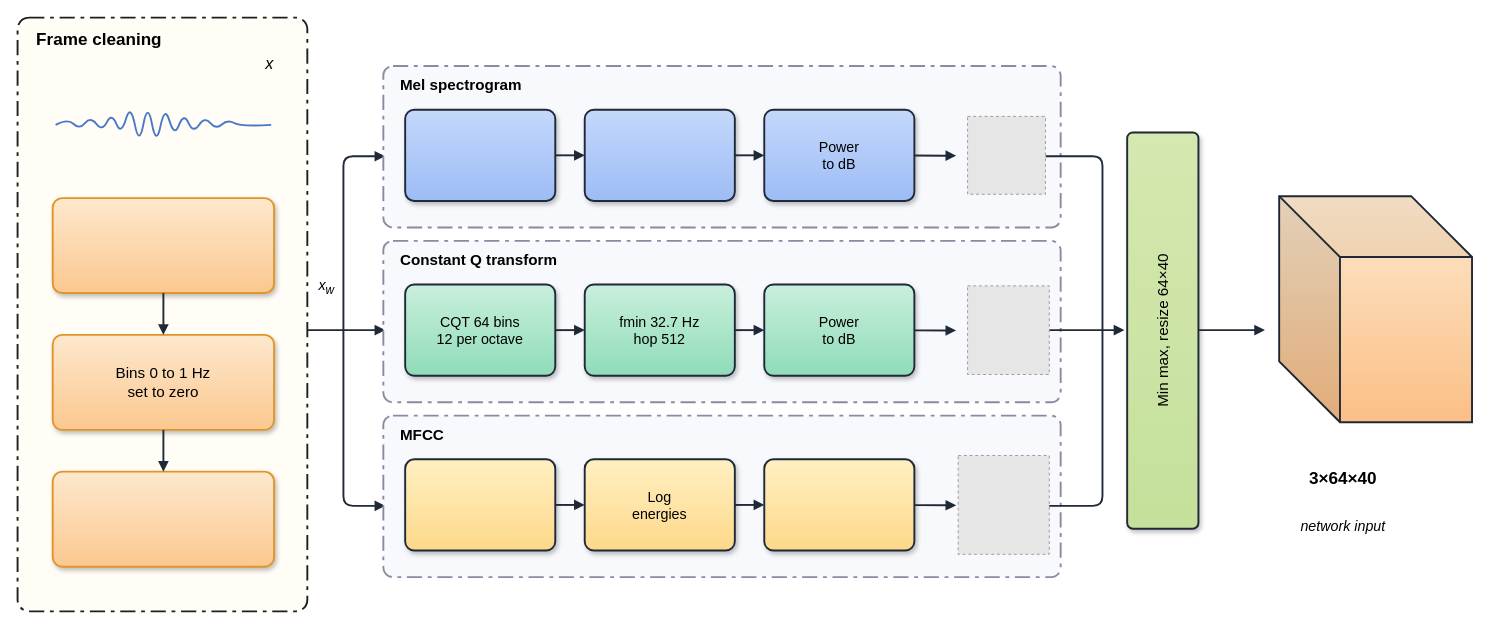
This 1489x628 diagram has some shape labels left out. Grey dashed boxes stand in for pictures. The centre of each missing label's shape, as x and y in pixels:
"30 mel bands FFT 1024" belongs at point 480,506.
"64 mel filters 0 to 2000 Hz" belongs at point 660,156.
"DCT, 30 coefficients" belongs at point 840,506.
"Divide by peak value" belongs at point 164,520.
"Mono, 4 kHz 5 s frames" belongs at point 164,246.
"STFT 1024 hop 524" belongs at point 480,156.
